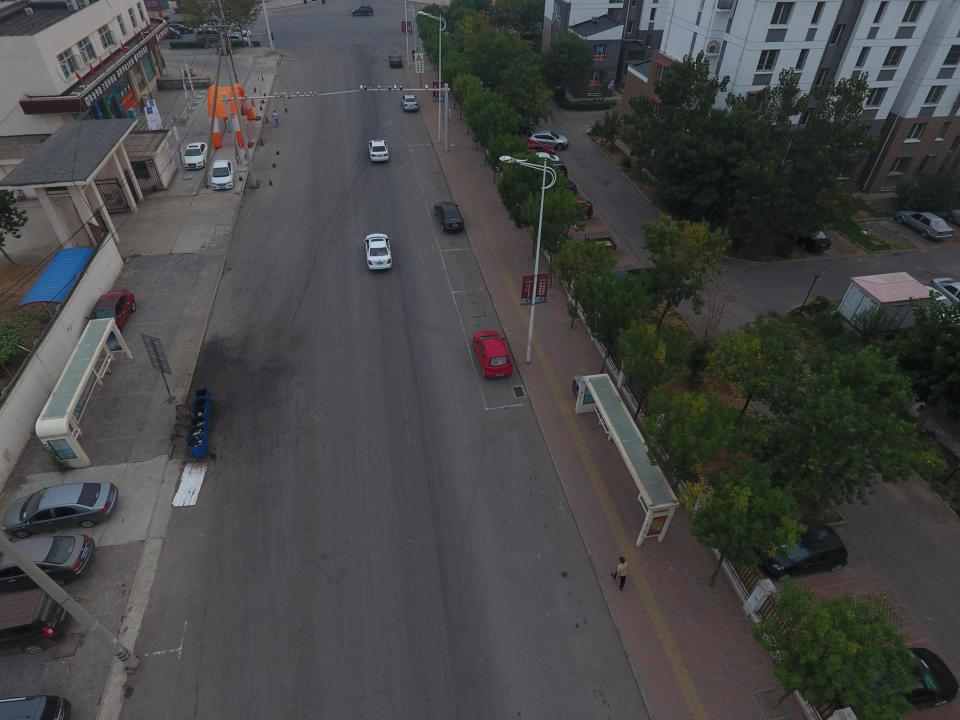bus: (496, 152, 560, 177)
car: (817, 648, 956, 708), (3, 482, 119, 540), (755, 524, 848, 580), (1, 534, 92, 590), (3, 591, 69, 657), (90, 290, 134, 338), (472, 329, 514, 379), (897, 209, 955, 238), (793, 212, 829, 253), (362, 233, 392, 271), (931, 274, 960, 312), (434, 199, 466, 233), (525, 129, 569, 149), (560, 194, 592, 216), (514, 138, 555, 155), (583, 237, 617, 254), (368, 138, 388, 164), (553, 180, 576, 199), (402, 93, 417, 111), (350, 4, 372, 16), (390, 53, 402, 67)
truck: (836, 271, 953, 337), (211, 159, 232, 189), (186, 141, 207, 169)
